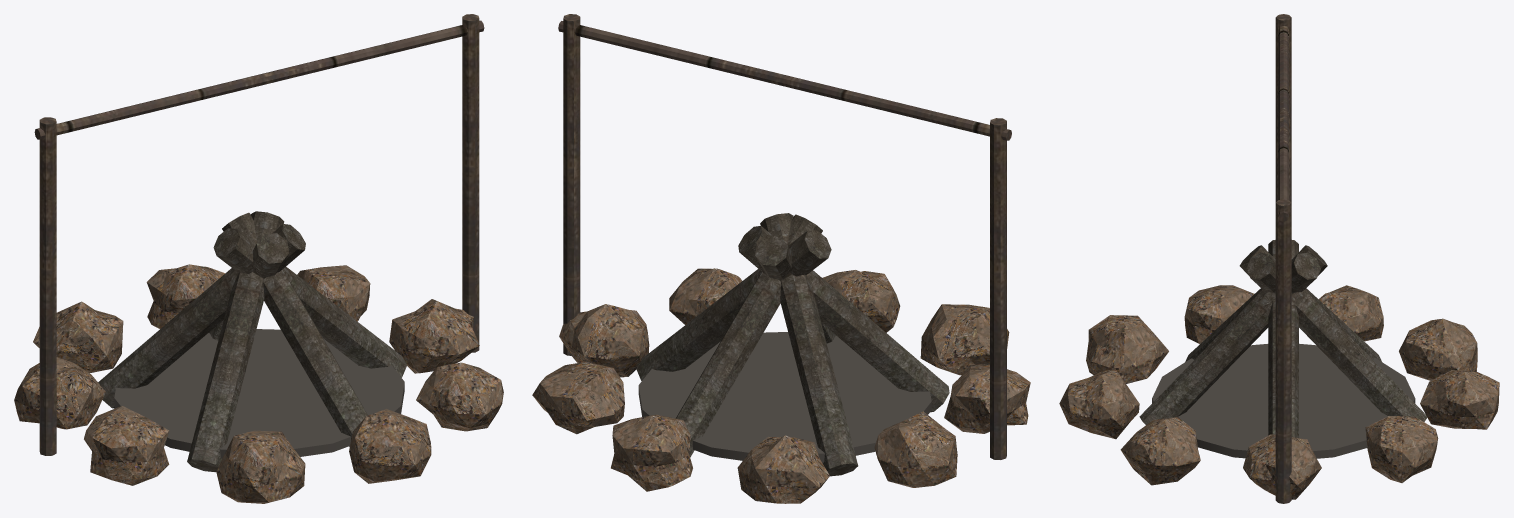
File: campfire.glb
3 renders of one model, left to right at view 1: azimuth 30°, elevation 25°; view 2: azimuth 150°, elevation 25°; view 3: azimuth 270°, elevation 25°, orthographic. The views are drawn at different scales.
Visible parts, largest first — view 1: ash, log3, log4, log2, post-0.5, post0.5, log0, stone6, spit, stone5, stone7, stone0 (+6 smaller); view 2: ash, log2, log3, log1, post-0.5, post0.5, log0, spit, stone2, stone1, stone4, stone3 (+6 smaller); view 3: ash, log4, log1, post0.5, stone6, stone2, stone8, stone7, stone1, stone3, stone0, stone5 (+6 smaller).
Part boxes in pixels (<box>): ash: <box>114,329,404,458</box>; log3: <box>187,211,284,472</box>; log4: <box>222,212,368,446</box>; log2: <box>98,224,305,408</box>; post-0.5: <box>39,117,56,455</box>; post0.5: <box>462,14,479,352</box>; log0: <box>213,228,406,377</box>; stone6: <box>216,430,305,503</box>; spit: <box>34,20,484,139</box>; stone5: <box>84,406,169,485</box>; stone7: <box>349,409,431,483</box>; stone0: <box>389,299,479,373</box>; ash: <box>638,332,931,462</box>; log2: <box>760,213,858,476</box>; log3: <box>738,226,949,412</box>; log1: <box>676,214,822,457</box>; post-0.5: <box>990,118,1006,459</box>; post0.5: <box>563,14,580,355</box>; log0: <box>636,230,831,380</box>; spit: <box>558,21,1011,140</box>; stone2: <box>611,414,692,491</box>; stone1: <box>532,361,624,434</box>; stone4: <box>874,411,957,487</box>; stone3: <box>737,435,829,503</box>; ash: <box>1152,343,1415,458</box>; log4: <box>1139,245,1327,424</box>; log1: <box>1239,245,1427,421</box>; post0.5: <box>1275,199,1291,503</box>; stone6: <box>1086,315,1168,383</box>; stone2: <box>1420,370,1499,429</box>; stone8: <box>1120,417,1200,485</box>; stone7: <box>1059,369,1139,439</box>; stone1: <box>1365,416,1438,482</box>; stone3: <box>1399,318,1477,380</box>; stone0: <box>1243,434,1321,499</box>; stone5: <box>1184,285,1254,343</box>.
Size of the model in its own units: 1.05 by 0.7844 by 1.
16 materials, 15 textured.
